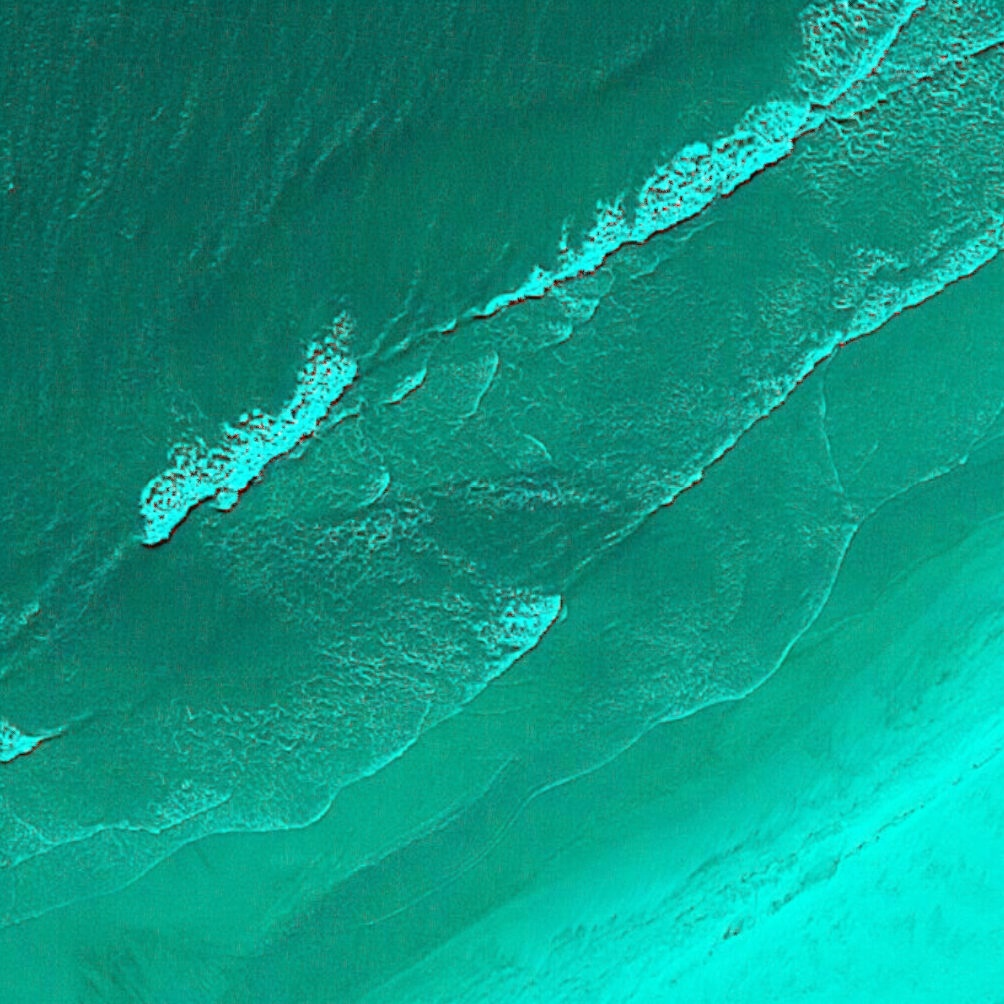rip_current: (66, 442, 715, 702)
